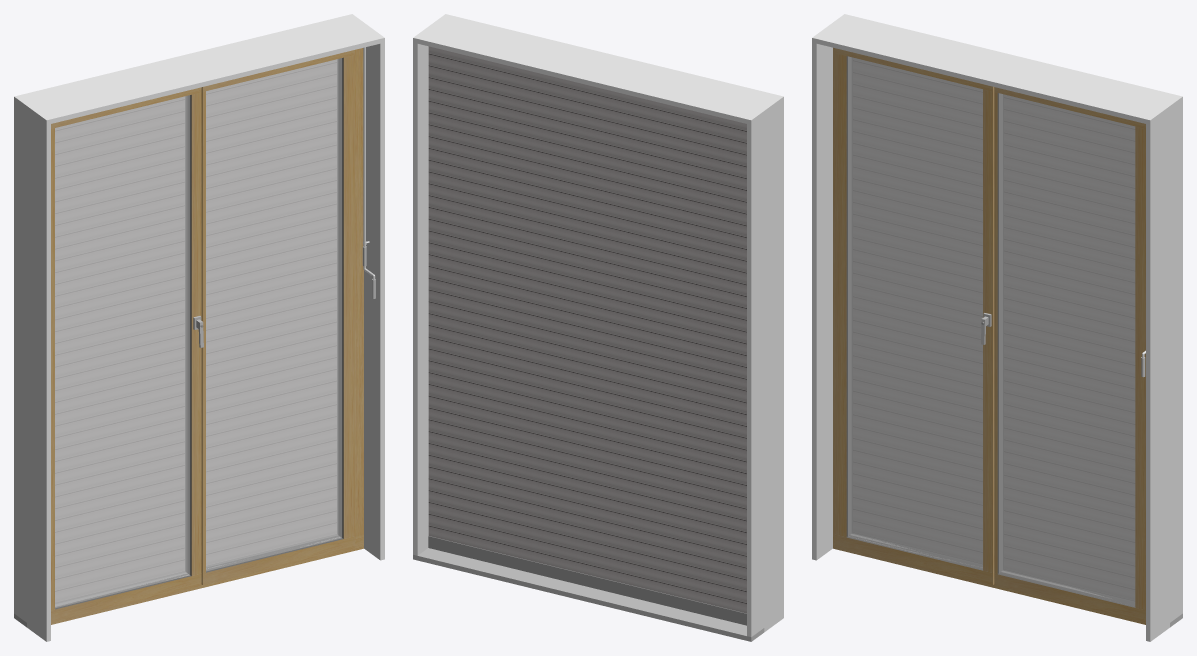
File: sweethome3d-contributions-double-french-window.glb
3 renders of one model, left to right at view 1: azimuth 30°, elevation 25°; view 2: azimuth 150°, elevation 25°; view 3: azimuth 330°, elevation 25°, orthographic.
Parts seen in each view (by area): view 1: sweethome3d_opening_on_rail_1_Roller_Shutter_back_179_266, sweethome3d_opening_on_hinge_2_Window_Pane_2_wall_1_5_5_116_, sweethome3d_opening_on_hinge_1_Window_Pane_1_wall_1_6_6_33_1, 46, 58, sweethome3d_opening_on_hinge_2_Inside_Inner_Frame_2_top_161_, sweethome3d_opening_on_hinge_1_Inside_Inner_Frame_1_top_77_1, 6, sweethome3d_opening_on_hinge_2_Outside_Inner_Frame_2_top_143, sweethome3d_opening_on_hinge_1_Outside_Inner_Frame_1_top_59_, sweethome3d_opening_on_hinge_3_Roller_Shutter_Crank_Sphere_2; view 2: sweethome3d_opening_on_rail_1_Roller_Shutter_back_179_266, 58, 46, 70, sweethome3d_opening_on_rail_1_Roller_Shutter_Foot_back_185_2; view 3: sweethome3d_opening_on_rail_1_Roller_Shutter_back_179_266, sweethome3d_opening_on_hinge_2_Window_Pane_2_wall_1_5_5_116_, sweethome3d_opening_on_hinge_1_Window_Pane_1_wall_1_6_6_33_1, 46, sweethome3d_opening_on_hinge_1_Inside_Inner_Frame_1_top_77_1, 58, sweethome3d_opening_on_hinge_2_Inside_Inner_Frame_2_top_161_, sweethome3d_opening_on_hinge_2_Outside_Inner_Frame_2_top_143, sweethome3d_opening_on_hinge_1_Outside_Inner_Frame_1_top_59_, 6.
Boxes of the visible parts, x1,y1,x2,y2 form: sweethome3d_opening_on_rail_1_Roller_Shutter_back_179_266: (55, 59, 336, 602); sweethome3d_opening_on_hinge_2_Window_Pane_2_wall_1_5_5_116_: (206, 58, 342, 571); sweethome3d_opening_on_hinge_1_Window_Pane_1_wall_1_6_6_33_1: (55, 95, 190, 607); 46: (27, 26, 384, 641); 58: (14, 14, 368, 624); sweethome3d_opening_on_hinge_2_Inside_Inner_Frame_2_top_161_: (201, 50, 354, 584); sweethome3d_opening_on_hinge_1_Inside_Inner_Frame_1_top_77_1: (51, 87, 201, 622); 6: (51, 48, 363, 624); sweethome3d_opening_on_hinge_2_Outside_Inner_Frame_2_top_143: (206, 57, 343, 572); sweethome3d_opening_on_hinge_1_Outside_Inner_Frame_1_top_59_: (55, 95, 191, 609); sweethome3d_opening_on_hinge_3_Roller_Shutter_Crank_Sphere_2: (362, 47, 375, 298); sweethome3d_opening_on_rail_1_Roller_Shutter_back_179_266: (428, 46, 746, 613); 58: (413, 26, 767, 637); 46: (429, 14, 783, 631); 70: (413, 548, 764, 641); sweethome3d_opening_on_rail_1_Roller_Shutter_Foot_back_185_2: (428, 536, 746, 625); sweethome3d_opening_on_rail_1_Roller_Shutter_back_179_266: (853, 58, 1134, 600); sweethome3d_opening_on_hinge_2_Window_Pane_2_wall_1_5_5_116_: (999, 93, 1135, 606); sweethome3d_opening_on_hinge_1_Window_Pane_1_wall_1_6_6_33_1: (848, 56, 982, 569); 46: (812, 26, 1169, 641); sweethome3d_opening_on_hinge_1_Inside_Inner_Frame_1_top_77_1: (835, 48, 994, 584); 58: (828, 14, 1182, 624); sweethome3d_opening_on_hinge_2_Inside_Inner_Frame_2_top_161_: (994, 87, 1145, 622); sweethome3d_opening_on_hinge_2_Outside_Inner_Frame_2_top_143: (997, 93, 1135, 607); sweethome3d_opening_on_hinge_1_Outside_Inner_Frame_1_top_59_: (846, 56, 982, 570); 6: (833, 47, 1145, 624).
Size of the model in its own units: 150 by 221 by 25.
Materials: 22 (4 with a texture image).
